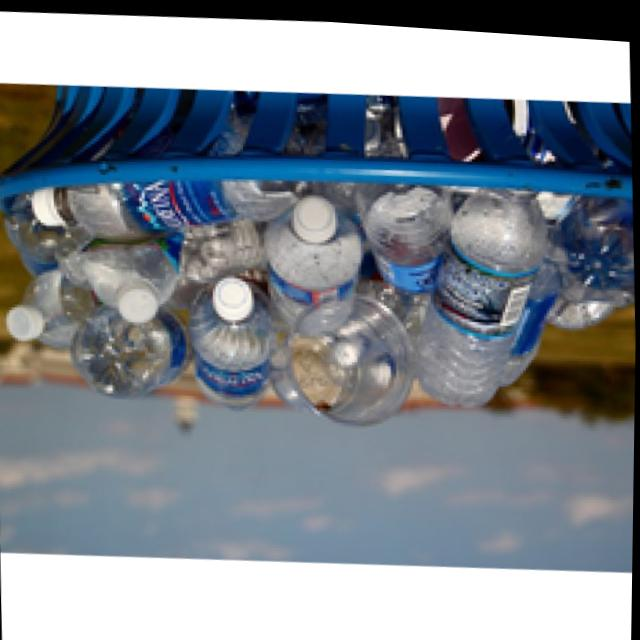plastic_water_bottles: (410, 189, 563, 400), (28, 160, 250, 250), (263, 191, 365, 322), (192, 272, 276, 401), (98, 279, 176, 330)
